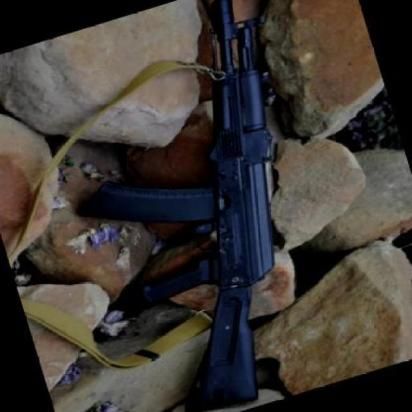Gun: (65, 0, 302, 412)
